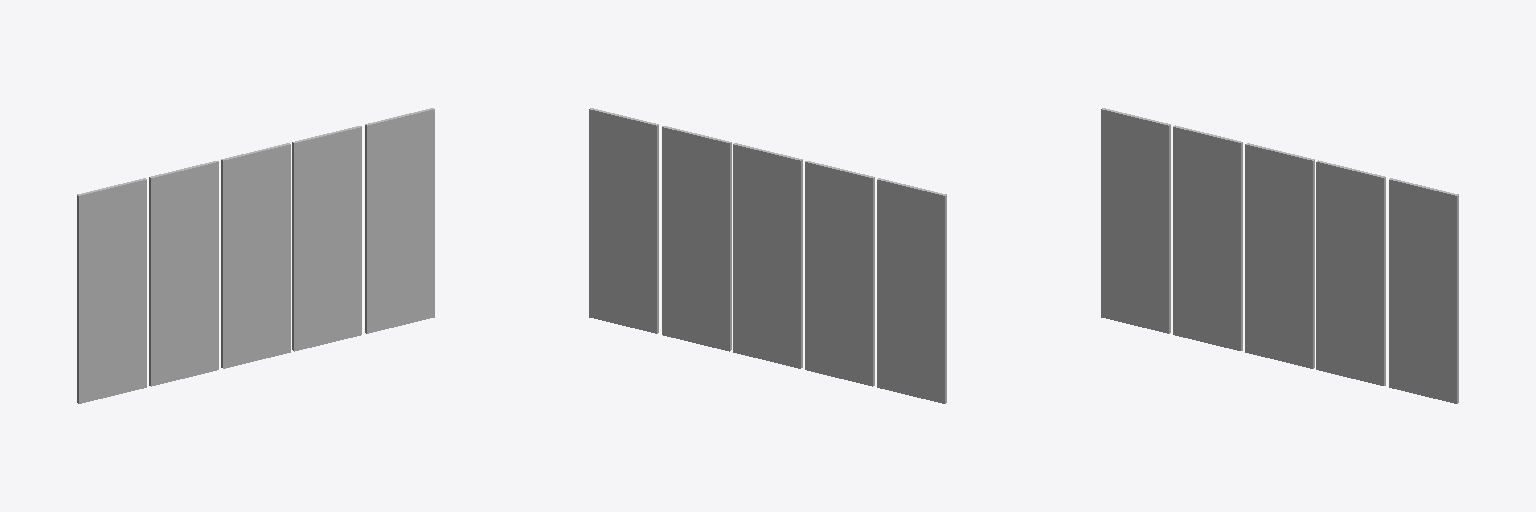
The model's file is Multiple_Frames_Buddha_Art_Wall_Painting.obj.
3 views of the same model, side by side, from view 1: azimuth 30°, elevation 25°; view 2: azimuth 150°, elevation 25°; view 3: azimuth 330°, elevation 25° (orthographic).
Parts seen in each view (by area): view 1: Cube.002_Cube.008, Cube.005, Cube.004, Cube, Cube.001_Cube.007; view 2: Cube.002_Cube.008, Cube.005, Cube.004, Cube, Cube.001_Cube.007; view 3: Cube.002_Cube.008, Cube.005, Cube.004, Cube, Cube.001_Cube.007.
Boxes of the visible parts, x1,y1,x2,y2 form: Cube.002_Cube.008: [221, 143, 290, 368]; Cube.005: [77, 178, 146, 403]; Cube.004: [149, 161, 218, 386]; Cube: [365, 108, 434, 333]; Cube.001_Cube.007: [292, 126, 361, 351]; Cube.002_Cube.008: [733, 143, 802, 368]; Cube.005: [877, 178, 946, 403]; Cube.004: [805, 161, 874, 386]; Cube: [589, 108, 658, 333]; Cube.001_Cube.007: [662, 126, 731, 351]; Cube.002_Cube.008: [1245, 143, 1314, 368]; Cube.005: [1101, 108, 1170, 333]; Cube.004: [1173, 125, 1242, 350]; Cube: [1389, 178, 1458, 403]; Cube.001_Cube.007: [1316, 160, 1385, 385].
Bounding box in the file's own units: 136 × 76 × 1.27.